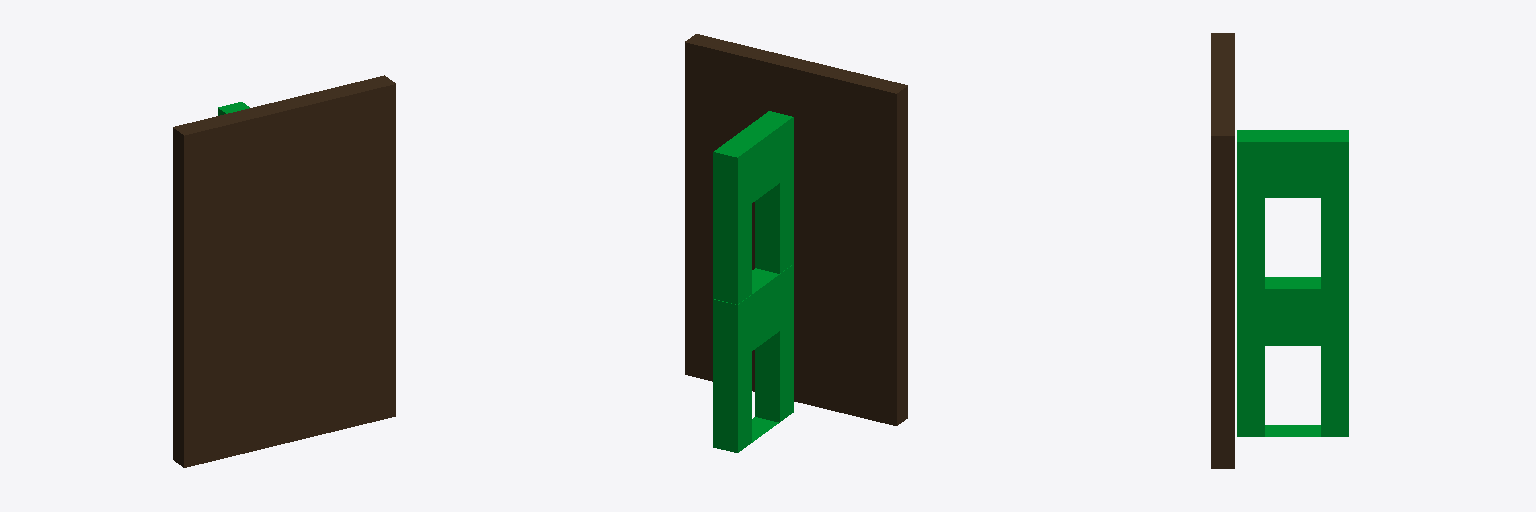
File: advtrains_signals_ks_head_main.obj
3 views of the same model, side by side, from view 1: azimuth 30°, elevation 25°; view 2: azimuth 150°, elevation 25°; view 3: azimuth 270°, elevation 25° (orthographic).
Parts seen in each view (by area): view 1: HSSignalschirm_Cube.002; view 2: HSSignalschirm_Cube.002; view 3: HSSignalschirm_Cube.002.
Part boxes in pixels (bbox=[...]): HSSignalschirm_Cube.002: bbox=[173, 75, 395, 467]; HSSignalschirm_Cube.002: bbox=[685, 34, 907, 452]; HSSignalschirm_Cube.002: bbox=[1211, 33, 1348, 468].
Bounding box in the file's own units: 0.5 × 0.7718 × 0.2801.